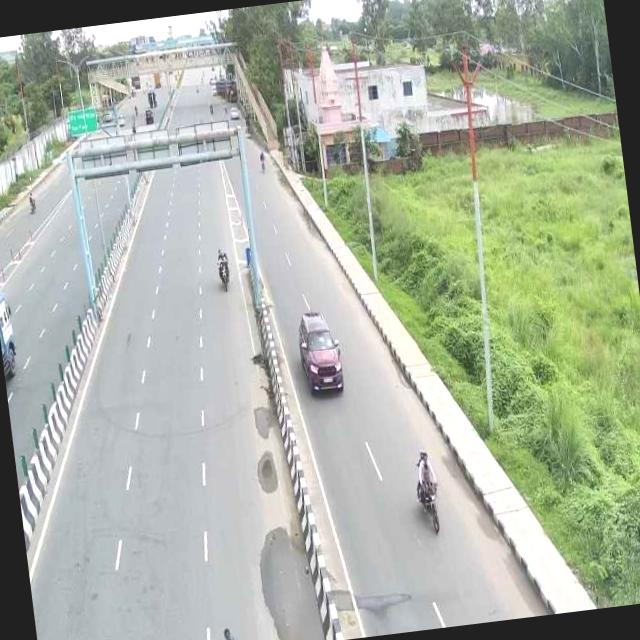car: (288, 300, 349, 398)
